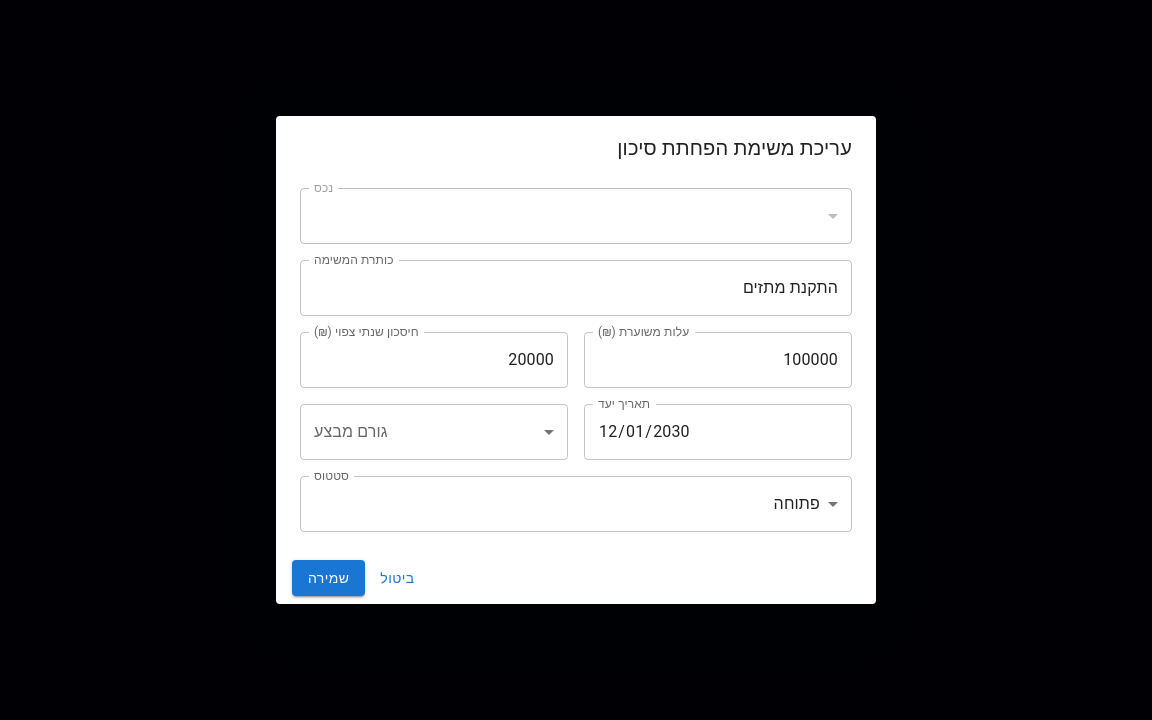
MitigationTaskDialog › blocks a negative cost or savings amount
The image size is (1152, 720).
Replace the text in the number field labelled "עלות משוערת (₪)" with "-1" at (718, 360), box x1=584 y1=332 x2=852 y2=388
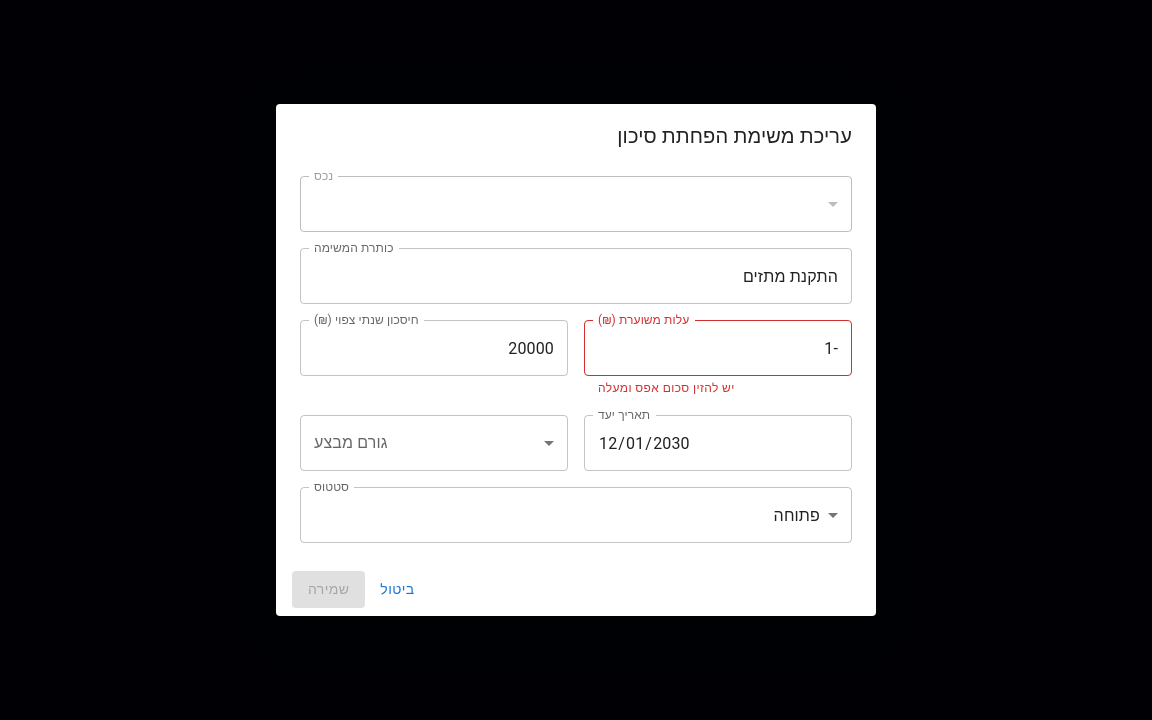
Expected: the text "יש להזין סכום אפס ומעלה" is shown, x1=598 y1=381 x2=735 y2=395
Expected: the button "שמירה" is disabled, x1=292 y1=571 x2=365 y2=608
Replace the text in the number field labelled "עלות משוערת (₪)" with "0" at (718, 348), box x1=584 y1=320 x2=852 y2=376
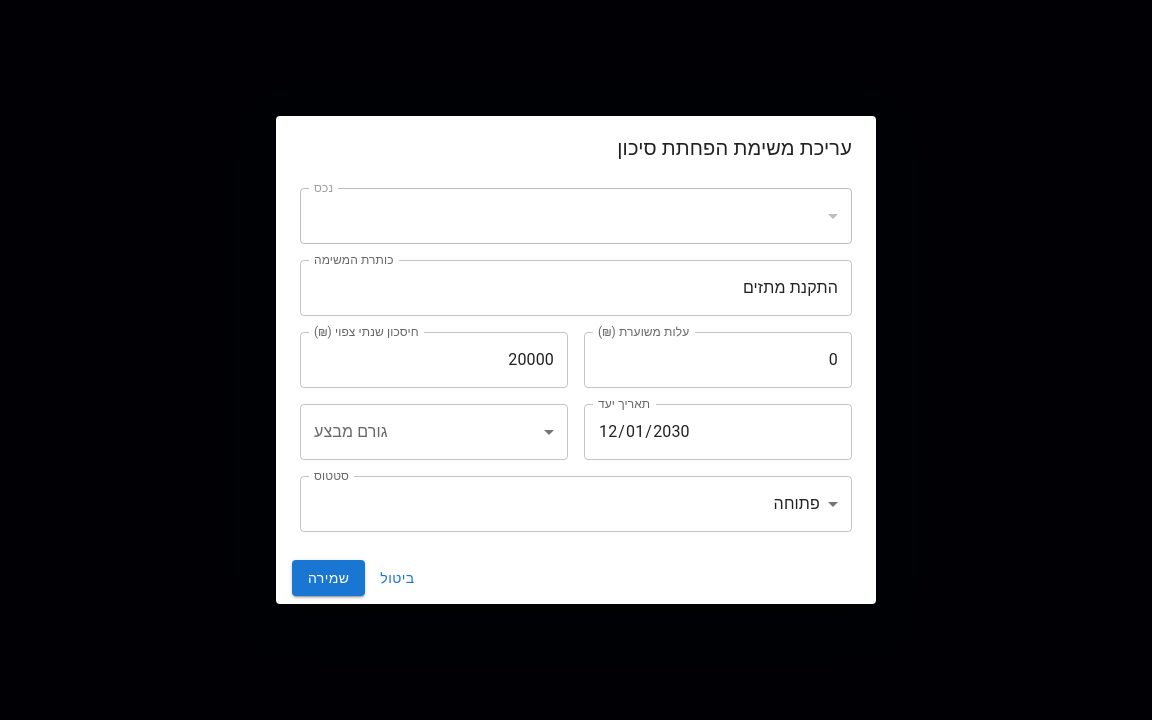
Expected: the button "שמירה" is enabled, x1=292 y1=560 x2=365 y2=596
Replace the text in the number field labelled "חיסכון שנתי צפוי (₪)" with "-5" at (434, 360), box x1=300 y1=332 x2=568 y2=388
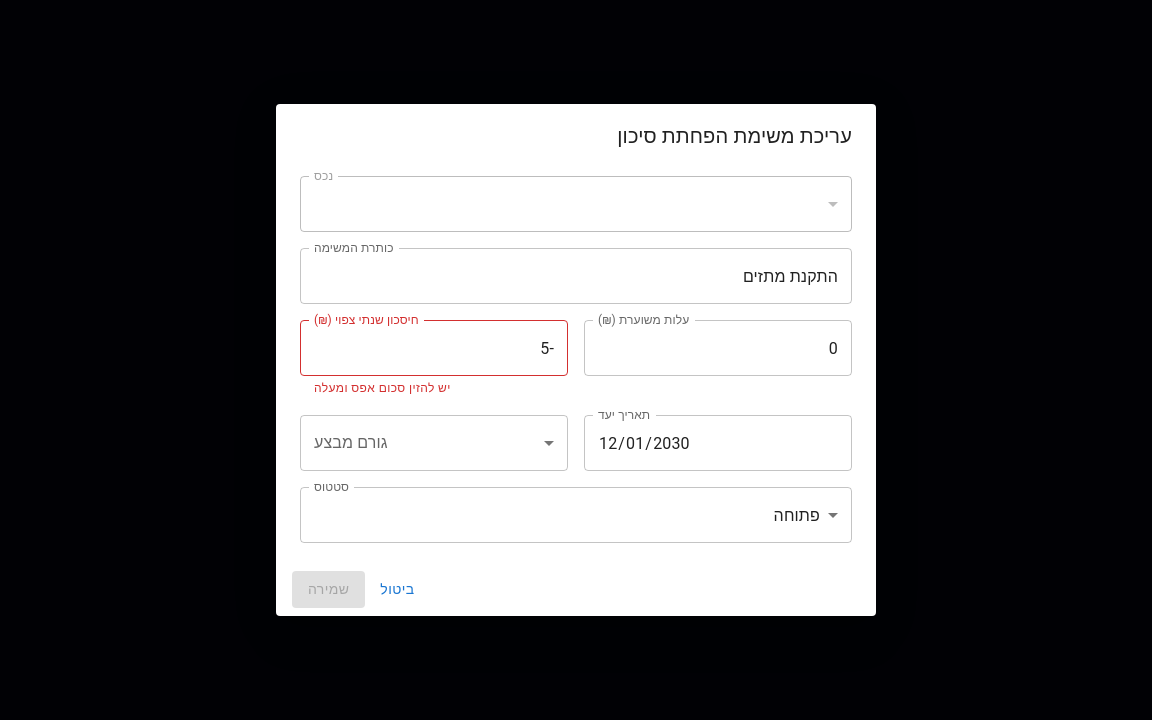
Expected: the button "שמירה" is disabled, x1=292 y1=571 x2=365 y2=608
